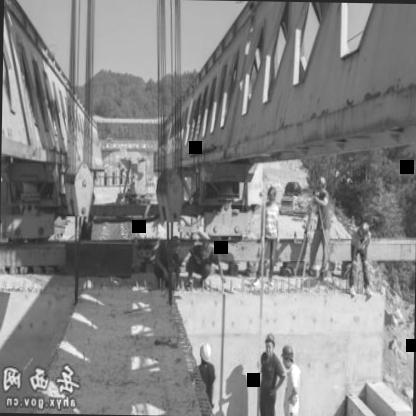helmet: (194, 338, 214, 369), (278, 340, 296, 372), (260, 181, 280, 208), (314, 173, 332, 200), (260, 328, 276, 356), (167, 230, 183, 258), (352, 216, 368, 242), (198, 238, 214, 262)
